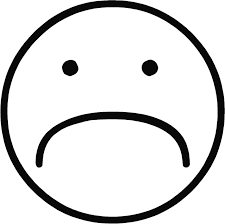triste: (28, 52, 197, 188)
